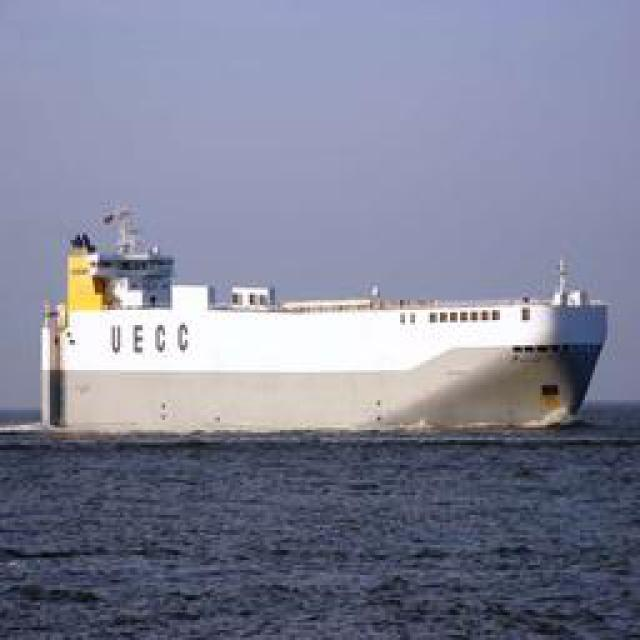Ship: (25, 210, 613, 443)
